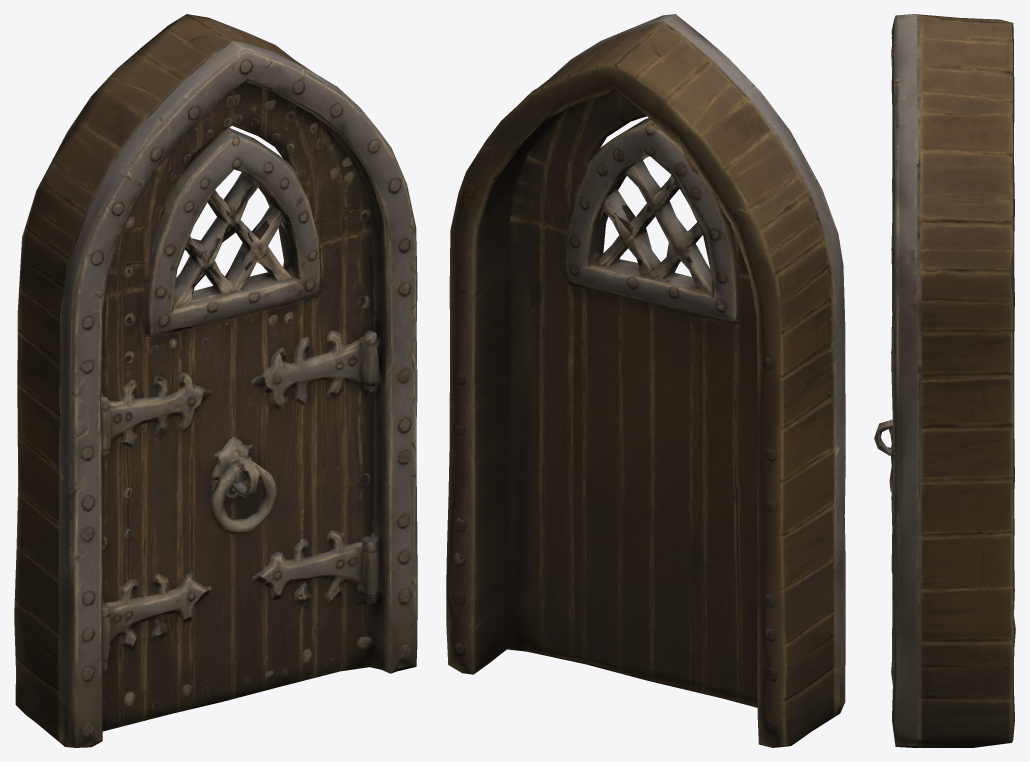
File: crypt_door.glb
3 views of the same model, side by side, from view 1: azimuth 30°, elevation 25°; view 2: azimuth 150°, elevation 25°; view 3: azimuth 270°, elevation 25° (orthographic).
Size of the model in its own units: 0.5503 by 0.998 by 0.1968.
Materials: 1 (1 with a texture image).
